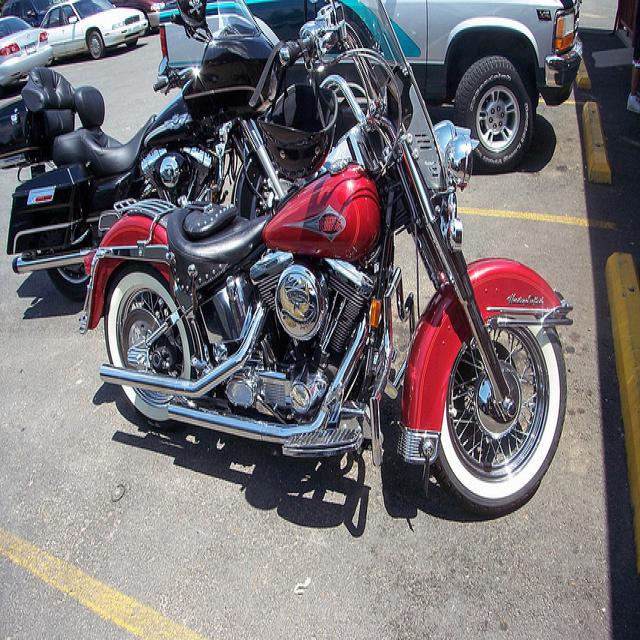motor: (81, 1, 570, 514), (8, 0, 280, 298)
